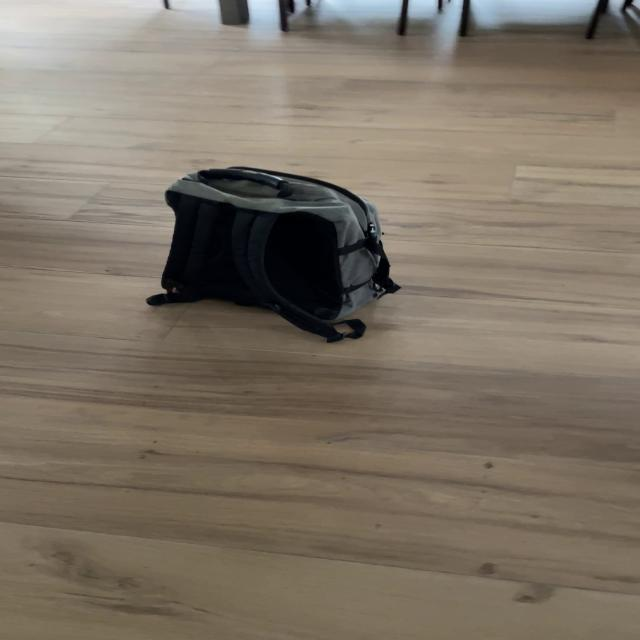backpack: (147, 158, 409, 346)
